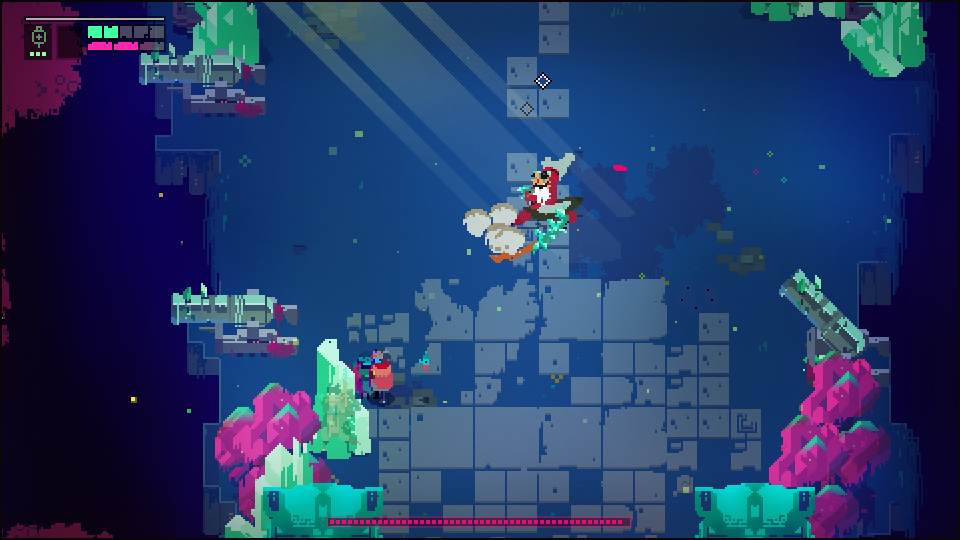hanged_man: (496, 150, 580, 257)
player: (370, 350, 395, 401)
